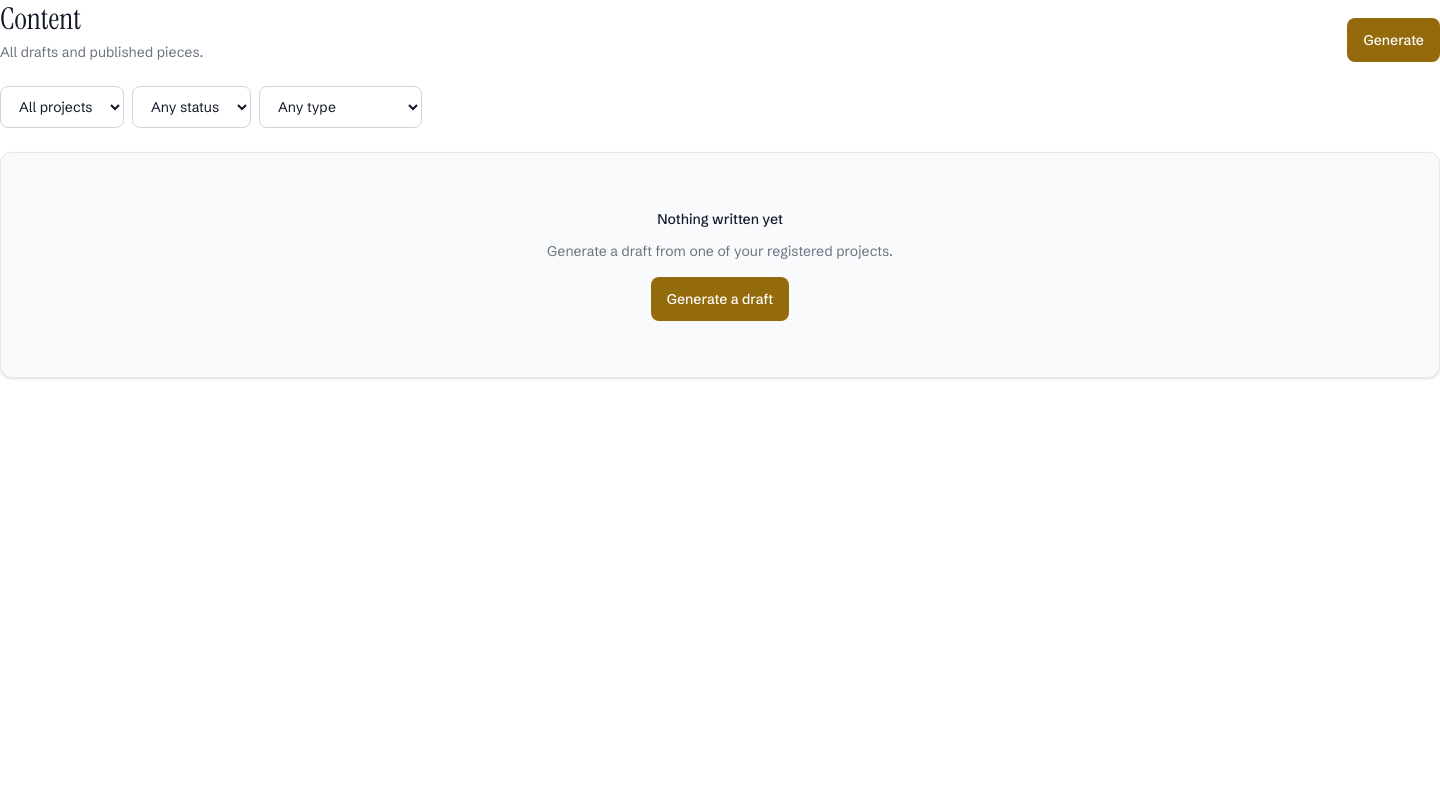
Test: generating a draft › submits the form and reloads the list on success
The width and height of the screenshot is (1440, 810).
Expected: the text "Nothing written yet" is shown, 657,208 -> 783,228
Click the button "Generate a draft".
click(720, 298)  # box 651,276 -> 789,320
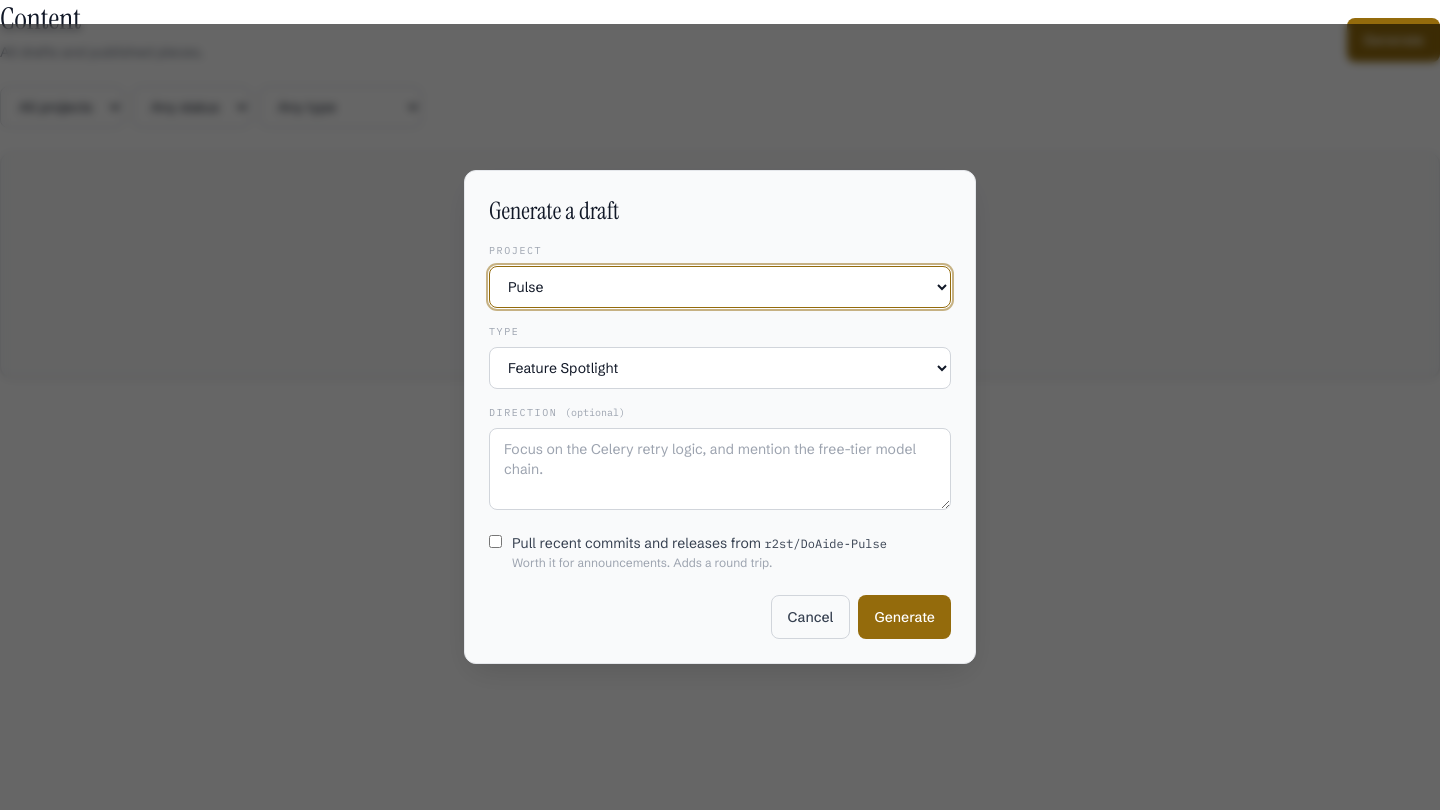
Click the button "Generate".
click(905, 617)  # box 858,595 -> 951,639
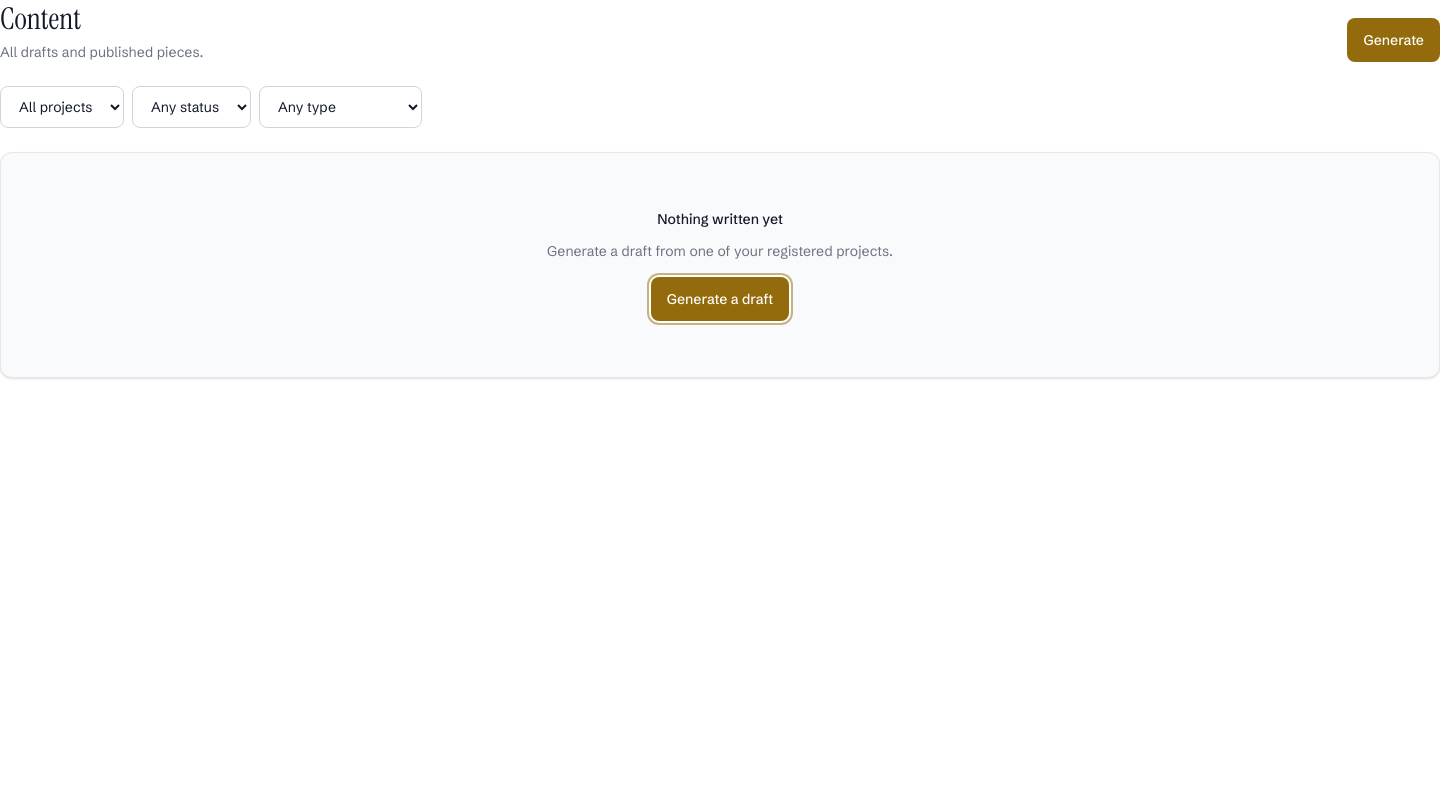
Result: the dialog is gone
